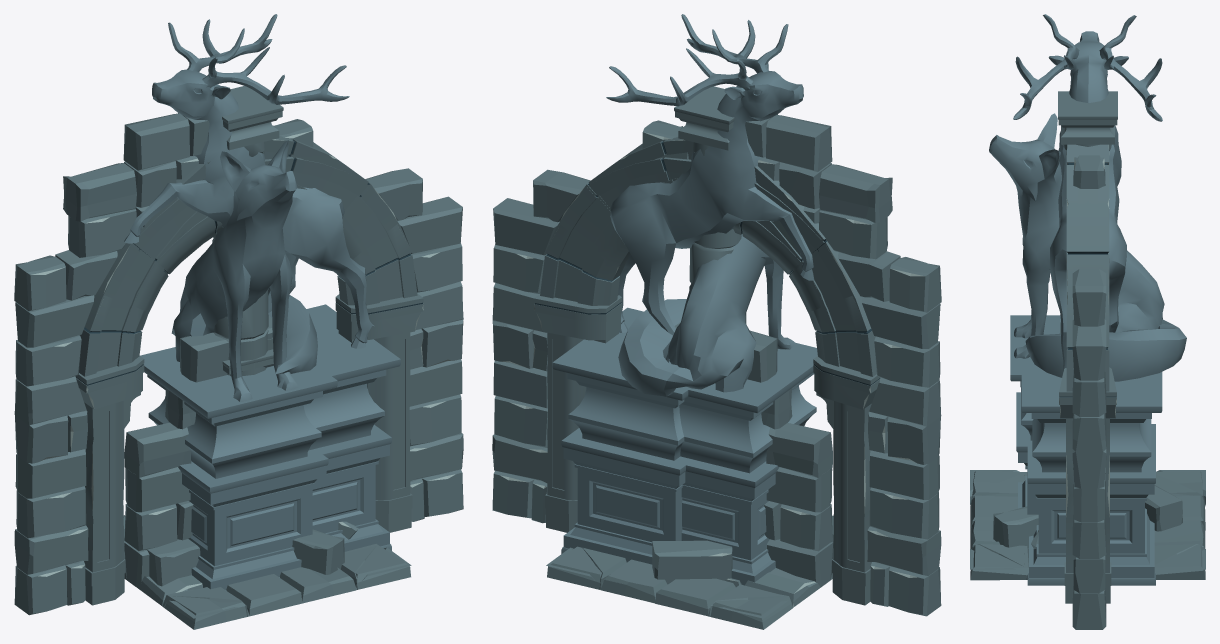
The model's file is ruins-library.glb.
3 views of the same model, side by side, from view 1: azimuth 30°, elevation 25°; view 2: azimuth 150°, elevation 25°; view 3: azimuth 270°, elevation 25° (orthographic). The views are drawn at different scales.
Visible parts, largest first — view 1: Wall_ArchRound_Broken, Statue_Fox, Statue_Stag, Arch_Round, Arch_Gothic, Wall_Broken, Floor_Diamond, Column_Round, Floor_Squares, Bricks, Wall_Half; view 2: Wall_ArchRound_Broken, Statue_Stag, Statue_Fox, Arch_Round, Arch_Gothic, Wall_Broken, Floor_Squares, Floor_Diamond, Column_Round, Bricks, Wall_Half; view 3: Statue_Stag, Statue_Fox, Wall_ArchRound_Broken, Floor_Diamond, Arch_Gothic, Floor_Squares, Arch_Round, Column_Round, Bricks.
Boxes of the visible parts, x1,y1,x2,y2 form: Wall_ArchRound_Broken: (14,113,463,615); Statue_Fox: (140,140,337,590); Statue_Stag: (124,14,400,551); Arch_Round: (75,156,423,605); Arch_Gothic: (76,136,420,603); Wall_Broken: (124,338,273,587); Floor_Diamond: (123,515,411,618); Column_Round: (212,86,283,376); Floor_Squares: (123,515,410,629); Bricks: (146,521,358,586); Wall_Half: (180,316,272,382); Wall_ArchRound_Broken: (492,114,941,616); Statue_Stag: (552,14,814,564); Statue_Fox: (618,234,817,585); Arch_Round: (533,157,880,605); Arch_Gothic: (536,126,875,524); Wall_Broken: (761,388,833,587); Floor_Squares: (547,516,833,629); Floor_Diamond: (546,515,833,618); Column_Round: (674,86,746,323); Bricks: (652,540,832,584); Wall_Half: (674,322,777,382); Statue_Stag: (1013,14,1162,585); Statue_Fox: (989,113,1186,514); Wall_ArchRound_Broken: (1072,155,1106,629); Floor_Diamond: (970,470,1205,579); Arch_Gothic: (1060,144,1114,571); Floor_Squares: (970,471,1205,580); Arch_Round: (1059,163,1116,603); Column_Round: (1058,91,1117,333); Bricks: (993,485,1182,549).
Bounding box in the file's own units: 3.99 × 4.63 × 2.
